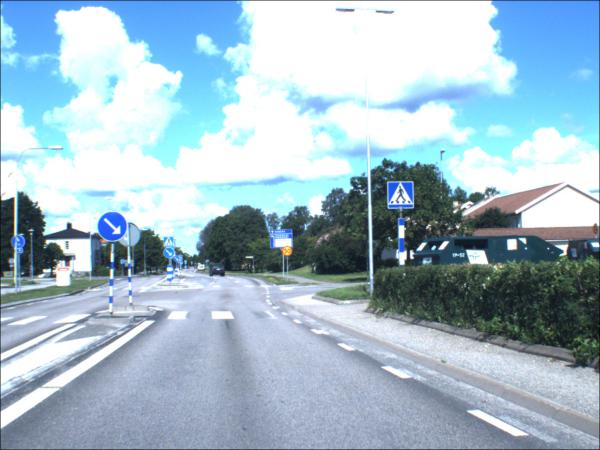50_SIGN: (284, 247, 295, 259)
PASS_RIGHT_SIDE: (99, 212, 129, 243), (165, 248, 176, 261), (175, 257, 182, 264)
PEDESTRIAN_CROSSING: (389, 184, 416, 211), (165, 238, 176, 249)
